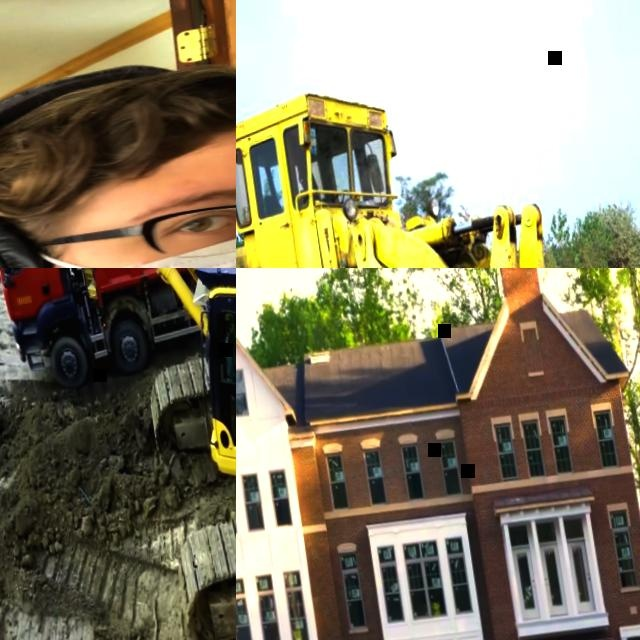NO-Hardhat: (0, 43, 236, 225)
Person: (0, 27, 236, 268)
machinery: (236, 19, 640, 268), (0, 268, 236, 640), (0, 268, 236, 396)
